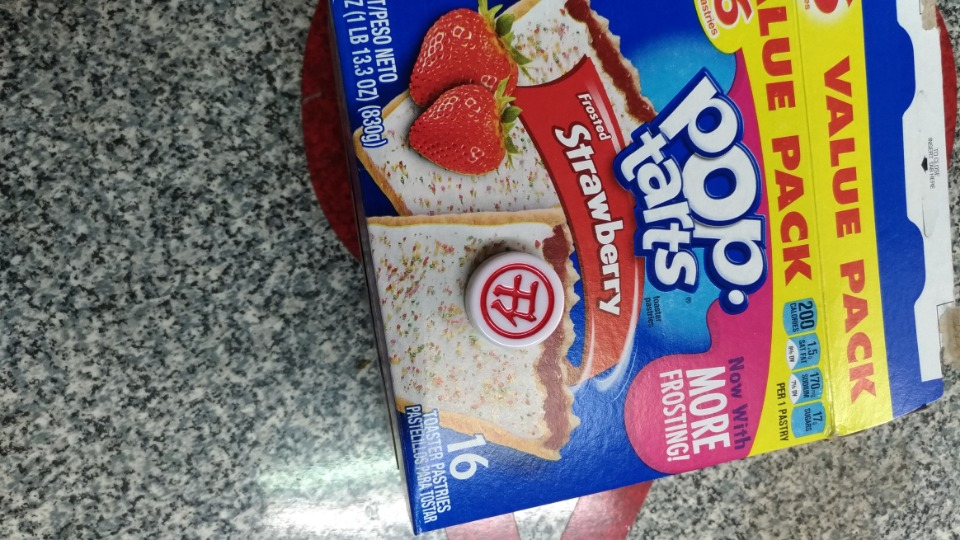r-advisor: (445, 243, 591, 352)
